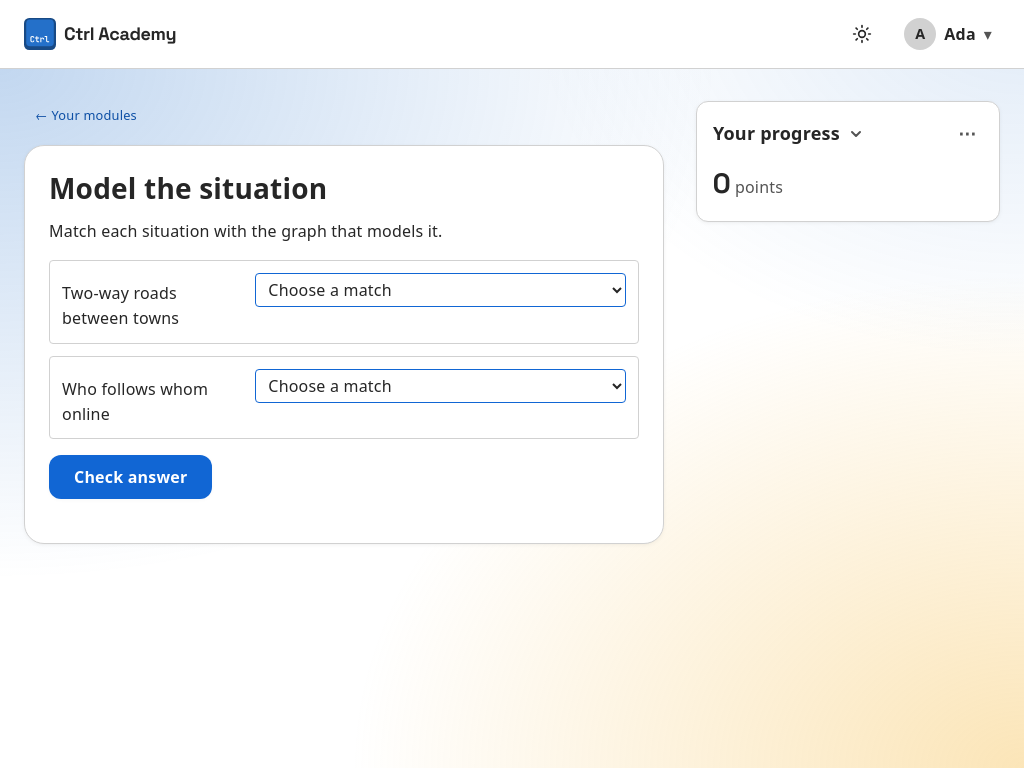
Test: the activity page › runs a matching activity end to end: load, pair, check, feedback
Select "Undirected graph" in the dropdown labelled "Two-way roads between towns" at (441, 290), box [255, 273, 626, 307]
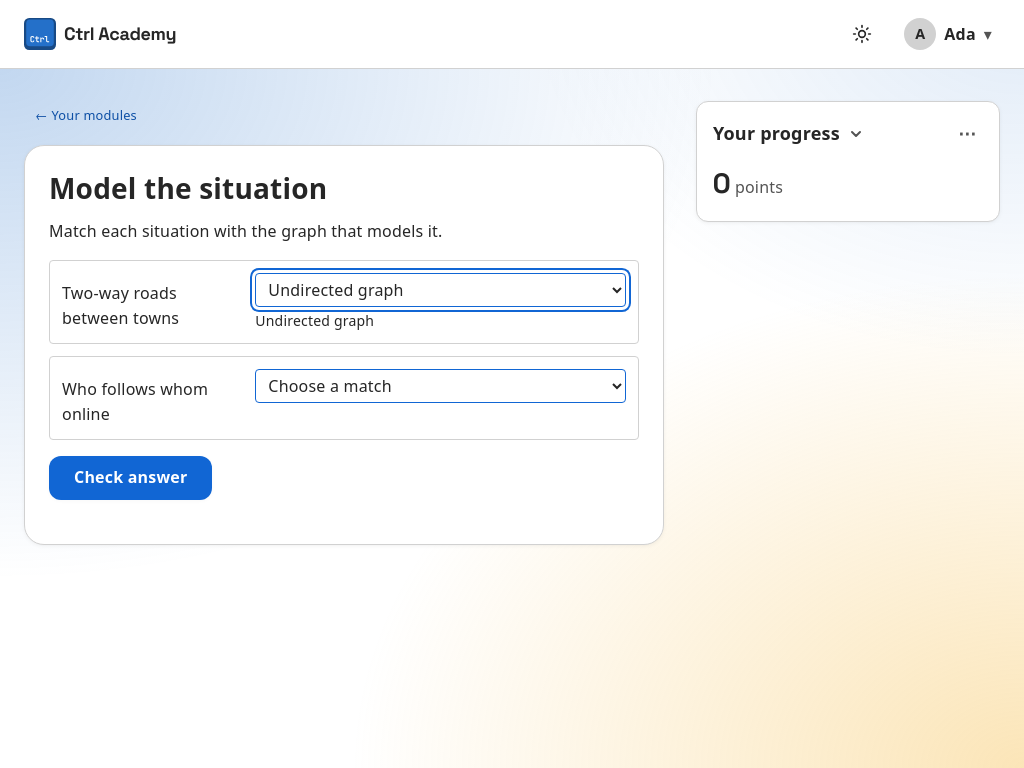
Click the button "Check answer".
click(131, 478)  # box [49, 456, 212, 500]
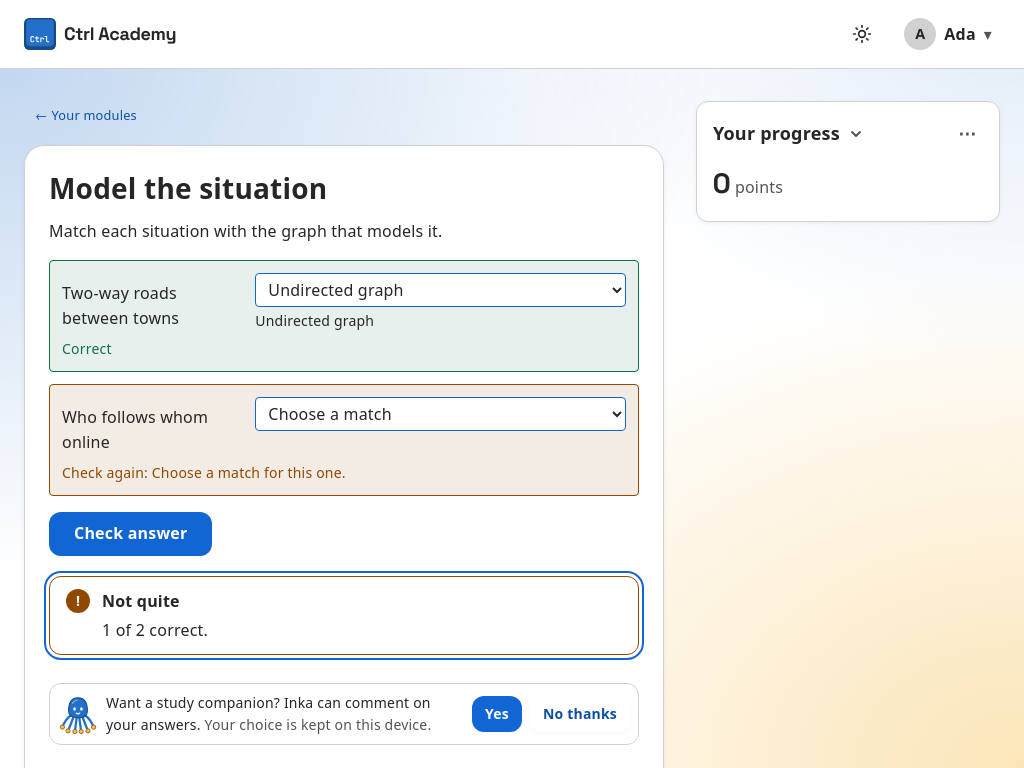
Now the text "1 of 2 correct." is shown, box [102, 618, 208, 642]
Now the text "Check again: Choose a match for this one." is shown, box [62, 463, 346, 482]
